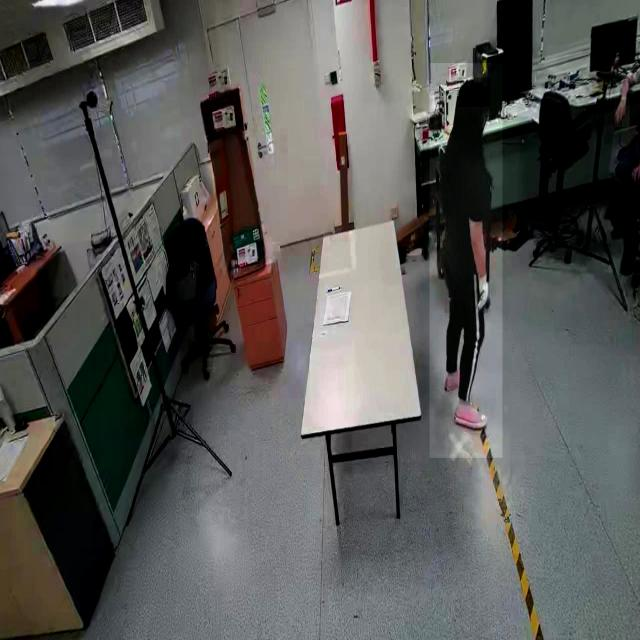hand_glove: (473, 275, 493, 321)
hand_noglove: (614, 97, 630, 128), (630, 163, 640, 182)
head_nohelmet: (456, 78, 491, 108)
person: (429, 63, 503, 459)
shoes: (450, 396, 490, 432), (444, 362, 463, 397)
